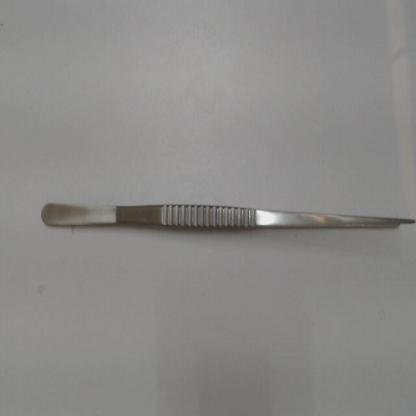DeBakey Dissector: (32, 200, 416, 244)
